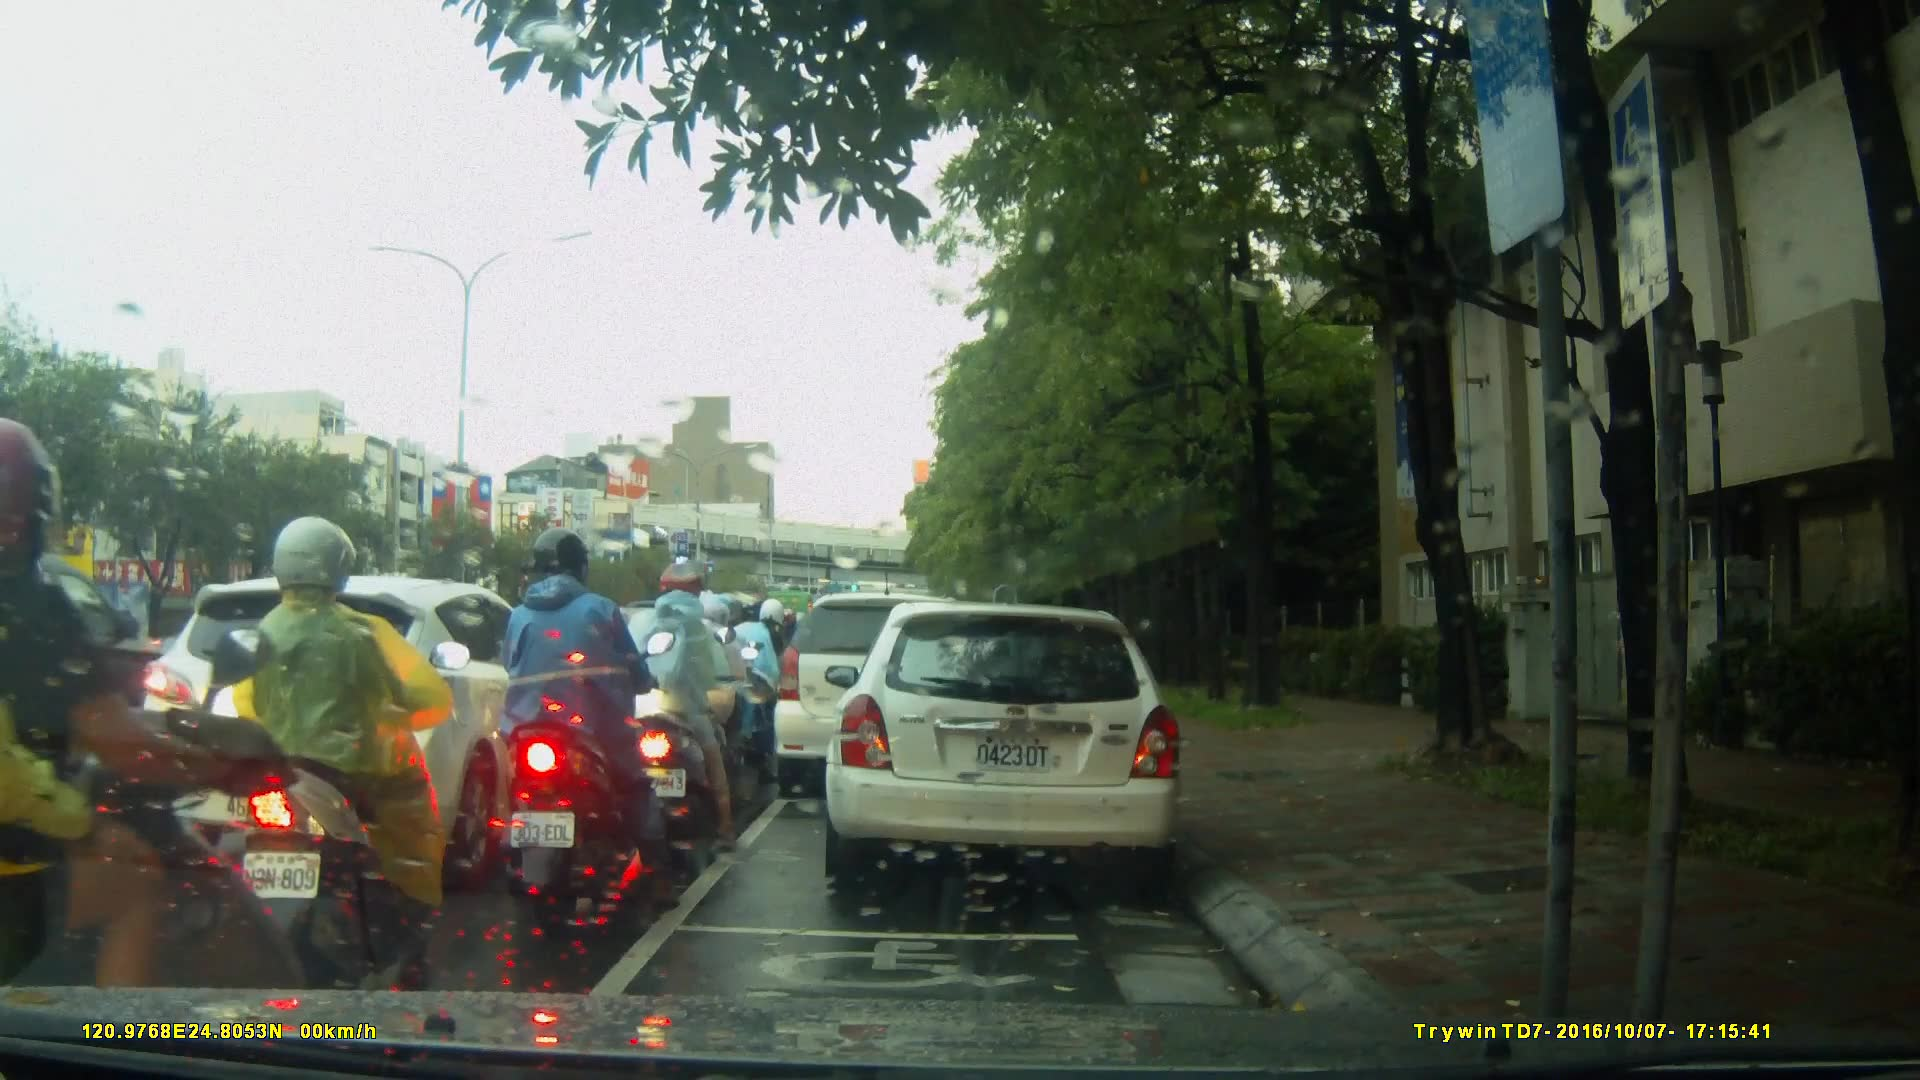rider: (1, 411, 301, 1079), (238, 519, 475, 998), (497, 527, 682, 915), (608, 560, 736, 847), (649, 583, 762, 823), (729, 596, 792, 759)
vehicle: (135, 574, 595, 870), (822, 604, 1188, 883), (774, 595, 995, 802)
